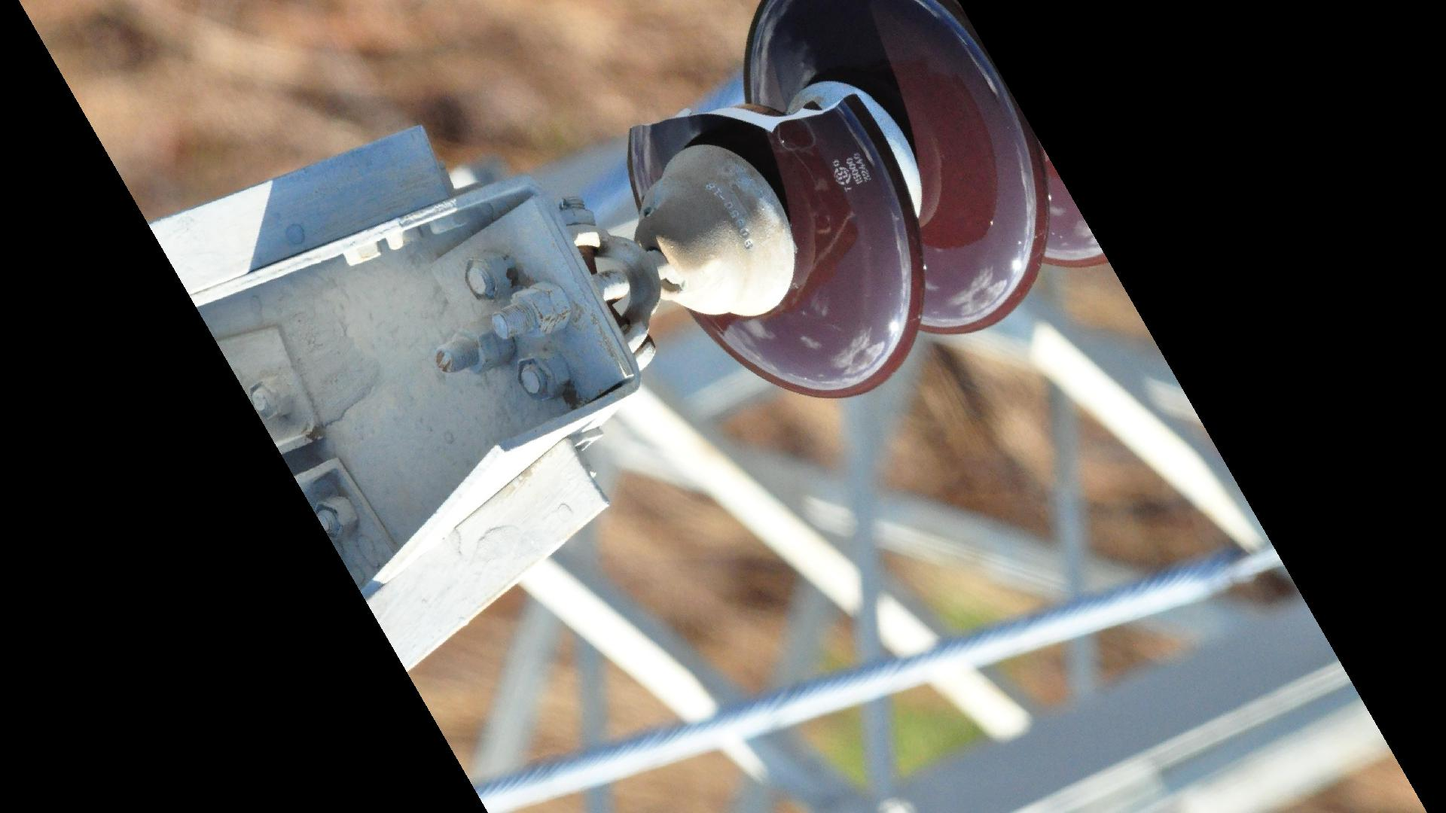insulator: (618, 1, 1112, 407)
insulator_breakage: (618, 78, 879, 156)
